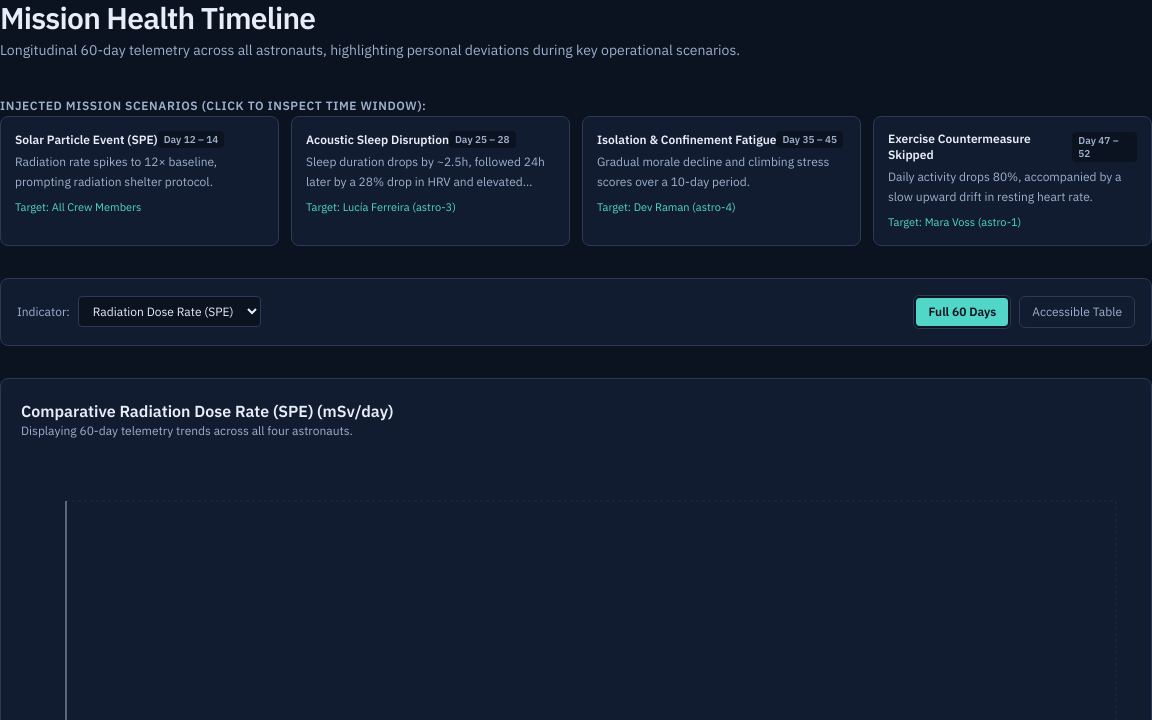
Test: TimelinePage › toggles accessible table alternative for multi-crew timeline
This screenshot has width=1152, height=720.
Click the button "Accessible Table": (1077, 312) [1019,296,1135,328]
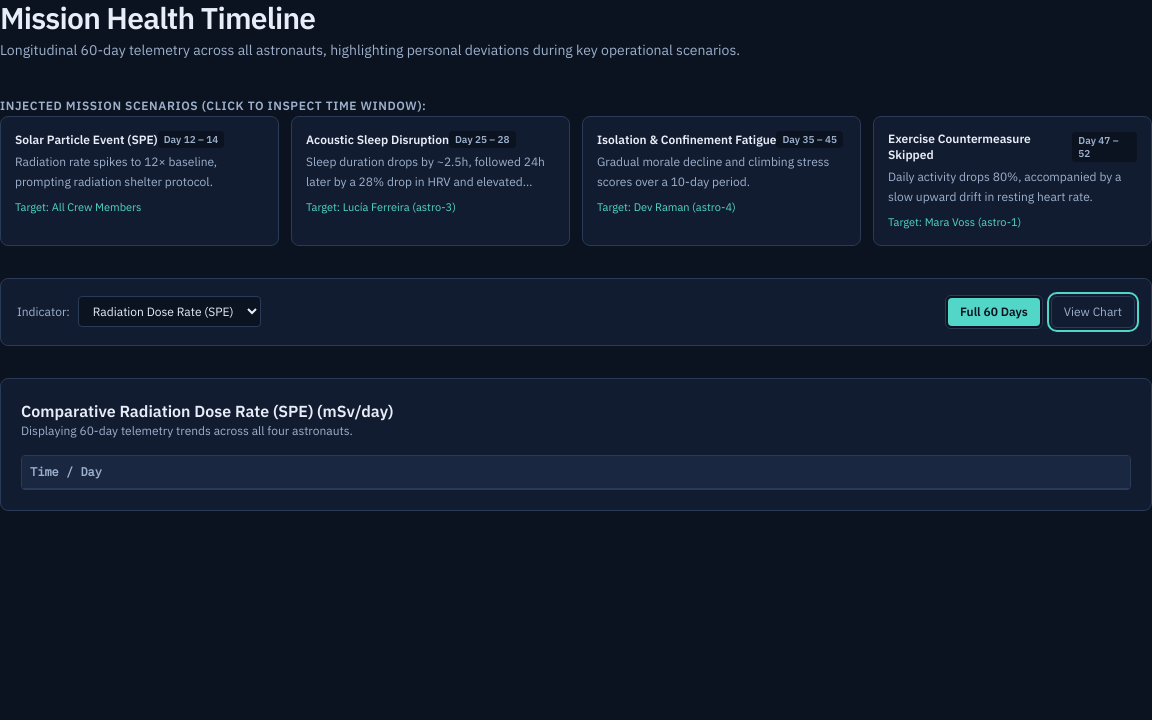
Expected: the column heading "Time / Day" is shown, [22,456,1130,488]
Expected: the button "View Chart" is shown, [1051,296,1135,328]
